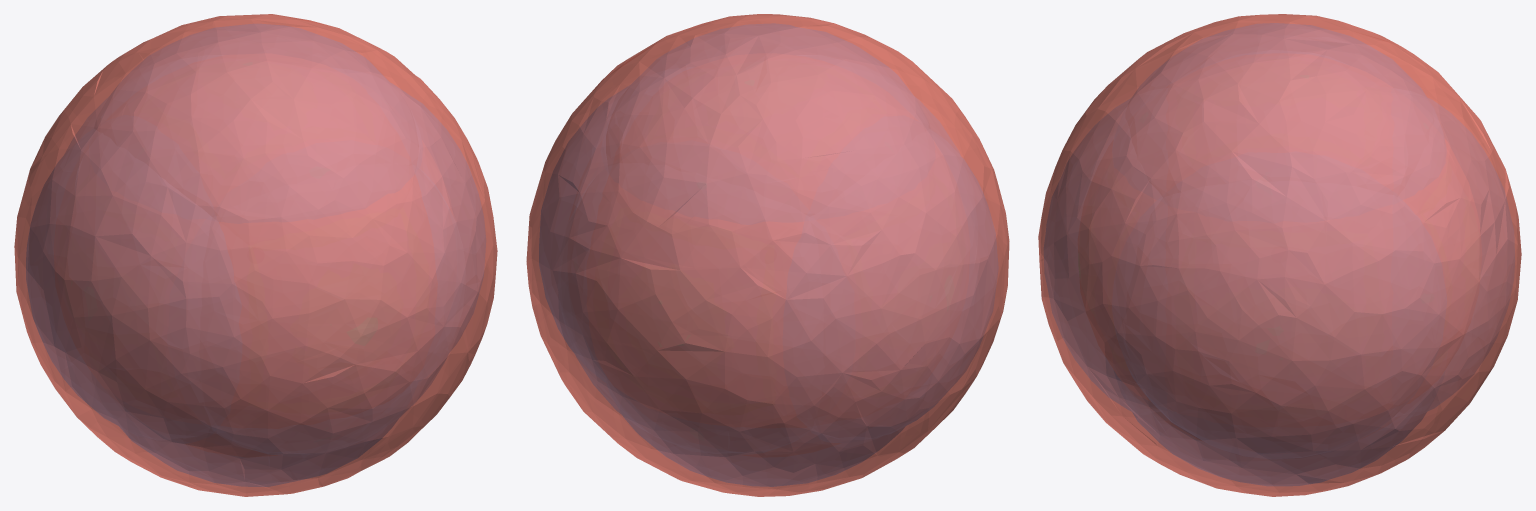
File: orbital.glb
The picture shows the model from 3 angles, left to right: view 1: azimuth 30°, elevation 25°; view 2: azimuth 150°, elevation 25°; view 3: azimuth 270°, elevation 25°; orthographic projection.
Visible parts, largest first — view 1: At_n6_s_ml0_node, At_n6_p_ml1_node, At_n6_p_ml-1_node, At_n6_p_ml0_node; view 2: At_n6_s_ml0_node, At_n6_p_ml1_node, At_n6_p_ml-1_node, At_n6_p_ml0_node; view 3: At_n6_s_ml0_node, At_n6_p_ml1_node, At_n6_p_ml-1_node, At_n6_p_ml0_node.
Boxes of the visible parts, x1,y1,x2,y2 form: At_n6_s_ml0_node: [14, 14, 497, 496]; At_n6_p_ml1_node: [26, 84, 485, 440]; At_n6_p_ml-1_node: [94, 24, 418, 486]; At_n6_p_ml0_node: [66, 97, 465, 453]; At_n6_s_ml0_node: [526, 14, 1009, 496]; At_n6_p_ml1_node: [539, 85, 998, 439]; At_n6_p_ml-1_node: [606, 23, 929, 486]; At_n6_p_ml0_node: [558, 98, 959, 452]; At_n6_s_ml0_node: [1038, 14, 1521, 496]; At_n6_p_ml1_node: [1126, 180, 1432, 458]; At_n6_p_ml-1_node: [1125, 23, 1434, 485]; At_n6_p_ml0_node: [1044, 98, 1514, 414].
Bounding box in the file's own units: 3.06 × 3.06 × 3.06.
